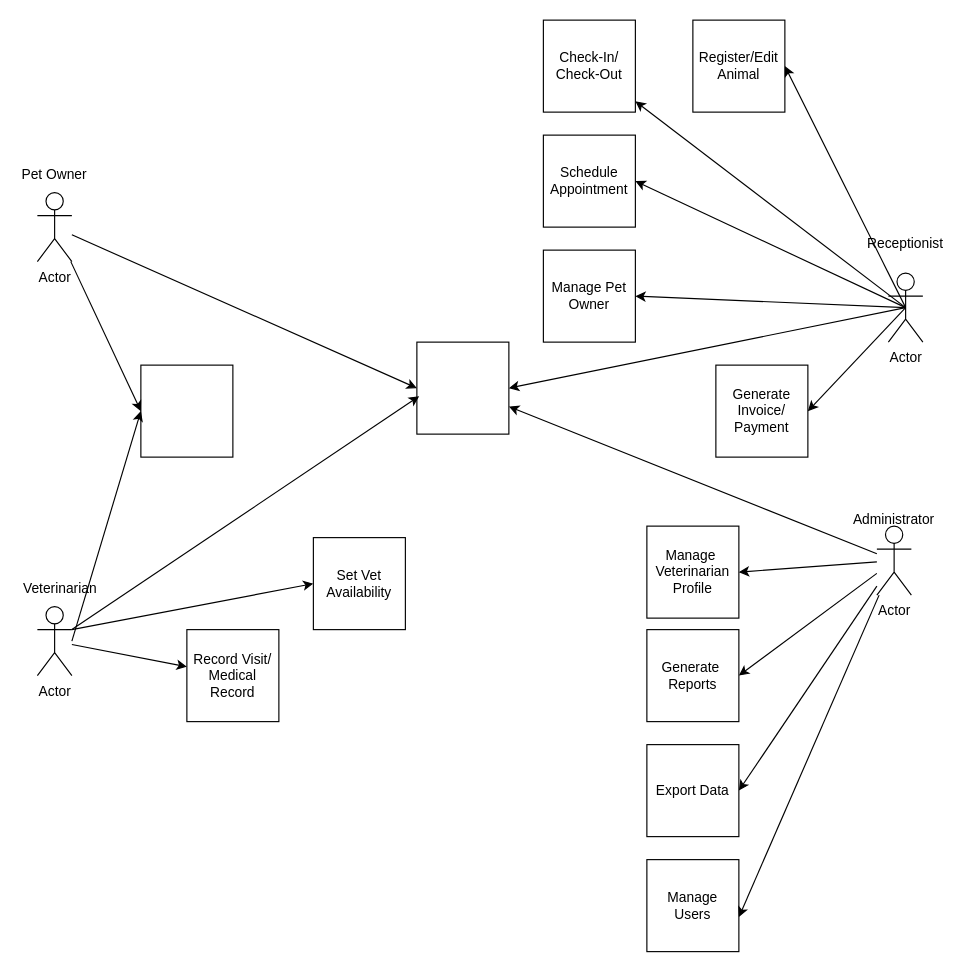
The diagram is 963 pixels wide and 972 high, and some of its shapes have lost their labels. The shapes that lost their labels are listed below. From the top down, each one's centre as x and y in pixels, then its label:
[462,387]: LogIn/ LogOut
[186,410]: View Calendar
